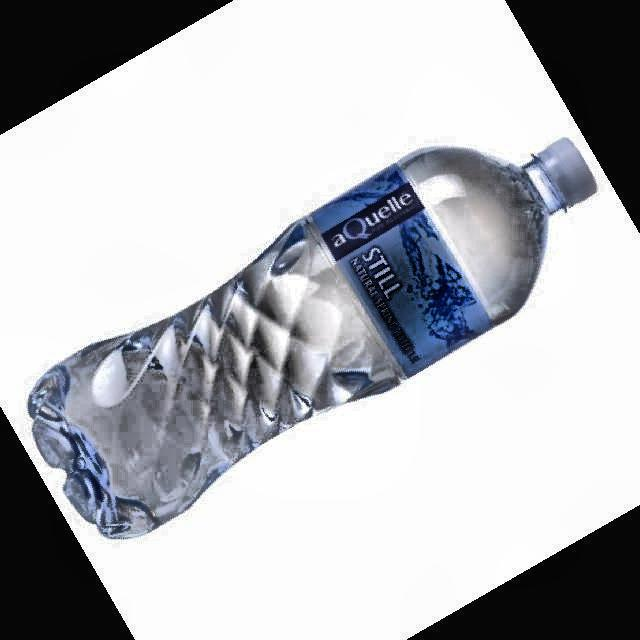plastic: (28, 139, 596, 539)
